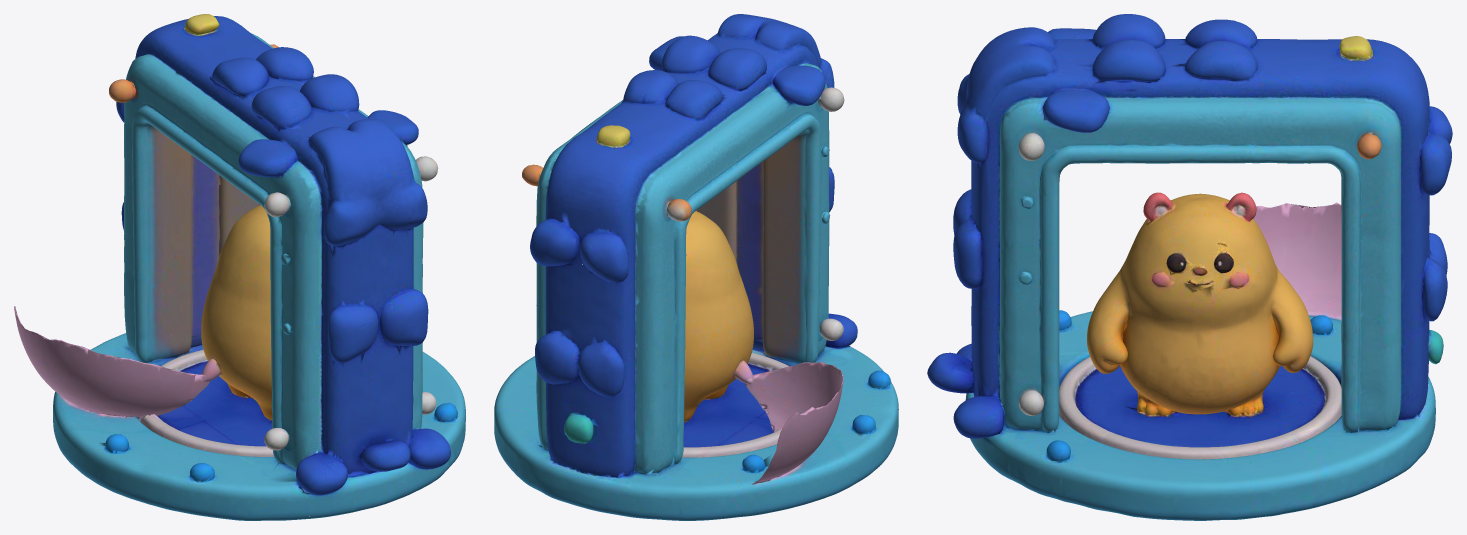
File: env_nest_portal_01.glb
3 renders of one model, left to right at view 1: azimuth 30°, elevation 25°; view 2: azimuth 150°, elevation 25°; view 3: azimuth 270°, elevation 25°, orthographic. The views are drawn at different scales.
Parts seen in each view (by area): view 1: tripo_node_7c490903-3a1a-4dd7-842f-6022a2672d96; view 2: tripo_node_7c490903-3a1a-4dd7-842f-6022a2672d96; view 3: tripo_node_7c490903-3a1a-4dd7-842f-6022a2672d96.
Boxes of the visible parts, <box> form: tripo_node_7c490903-3a1a-4dd7-842f-6022a2672d96: <box>14,14,465,520</box>; tripo_node_7c490903-3a1a-4dd7-842f-6022a2672d96: <box>494,14,898,520</box>; tripo_node_7c490903-3a1a-4dd7-842f-6022a2672d96: <box>927,14,1452,520</box>.
Bounding box in the file's own units: 3.07 × 3 × 3.52.
1 material, 1 textured.
